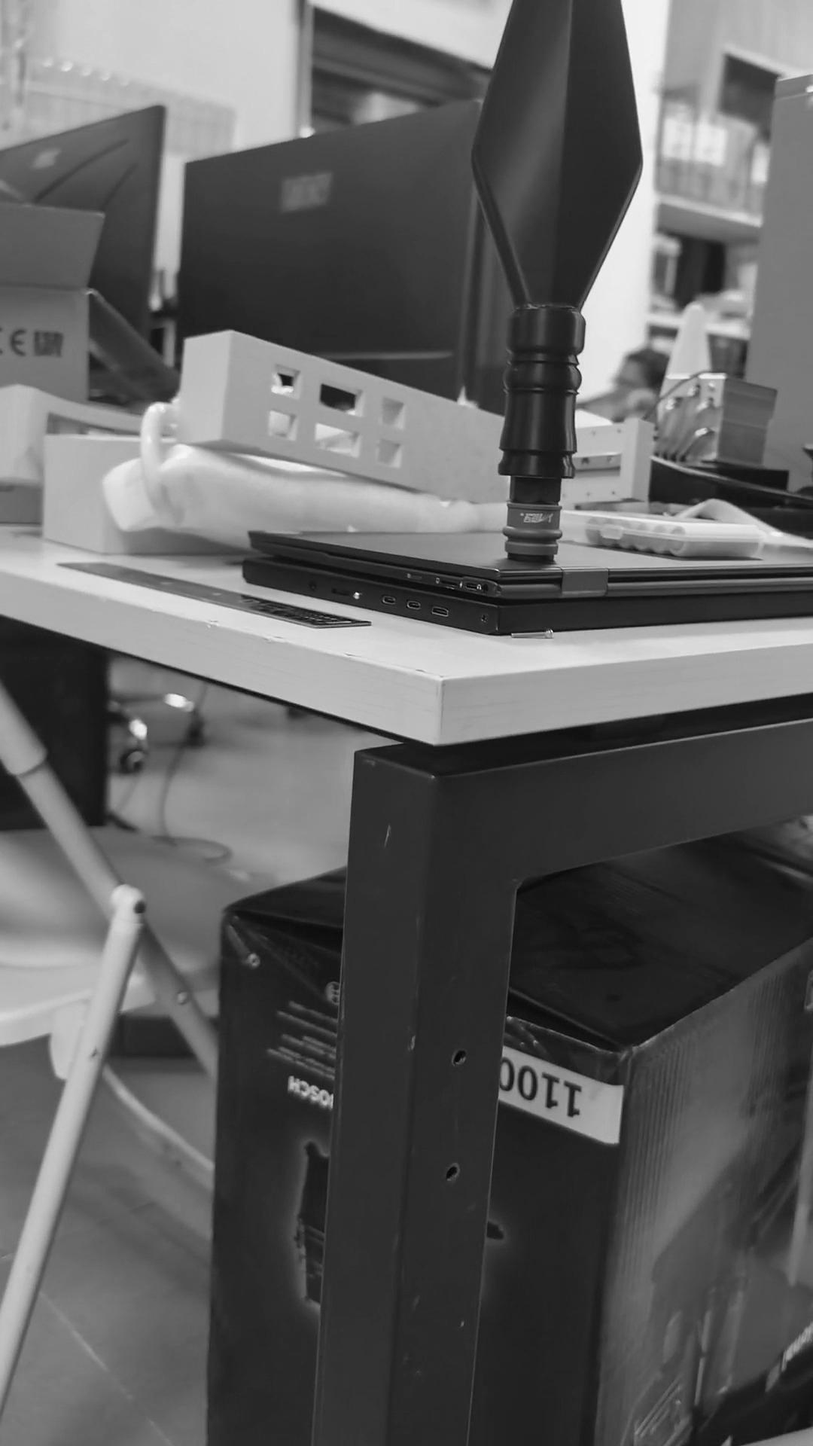base: (497, 485, 579, 579)
